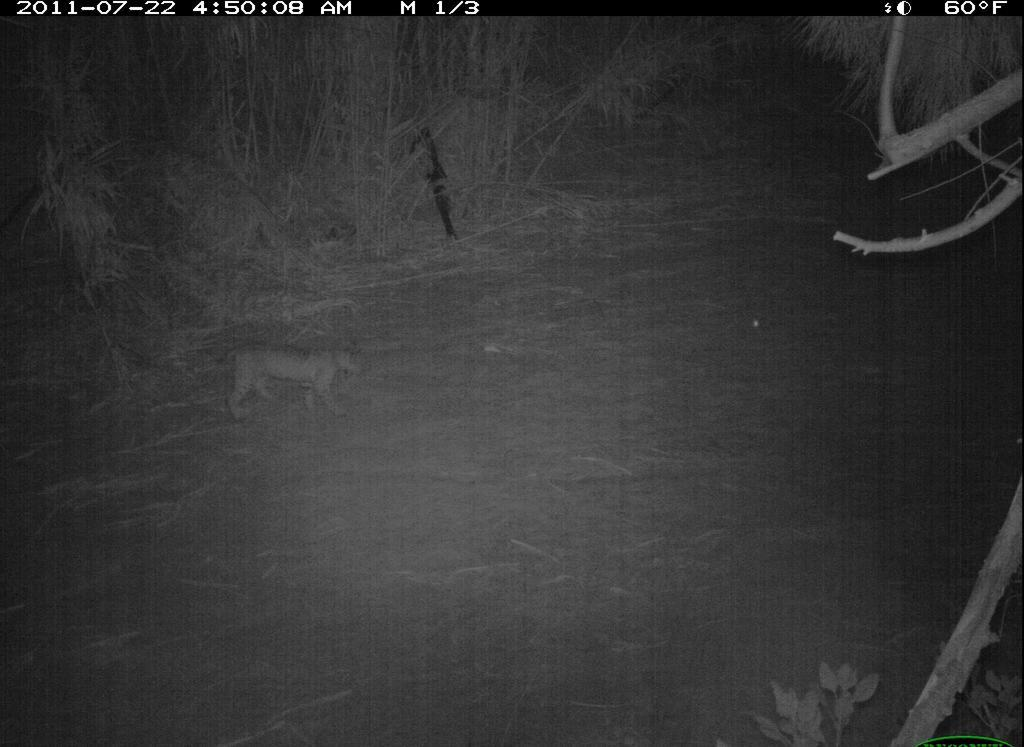bobcat: (193, 327, 361, 434)
